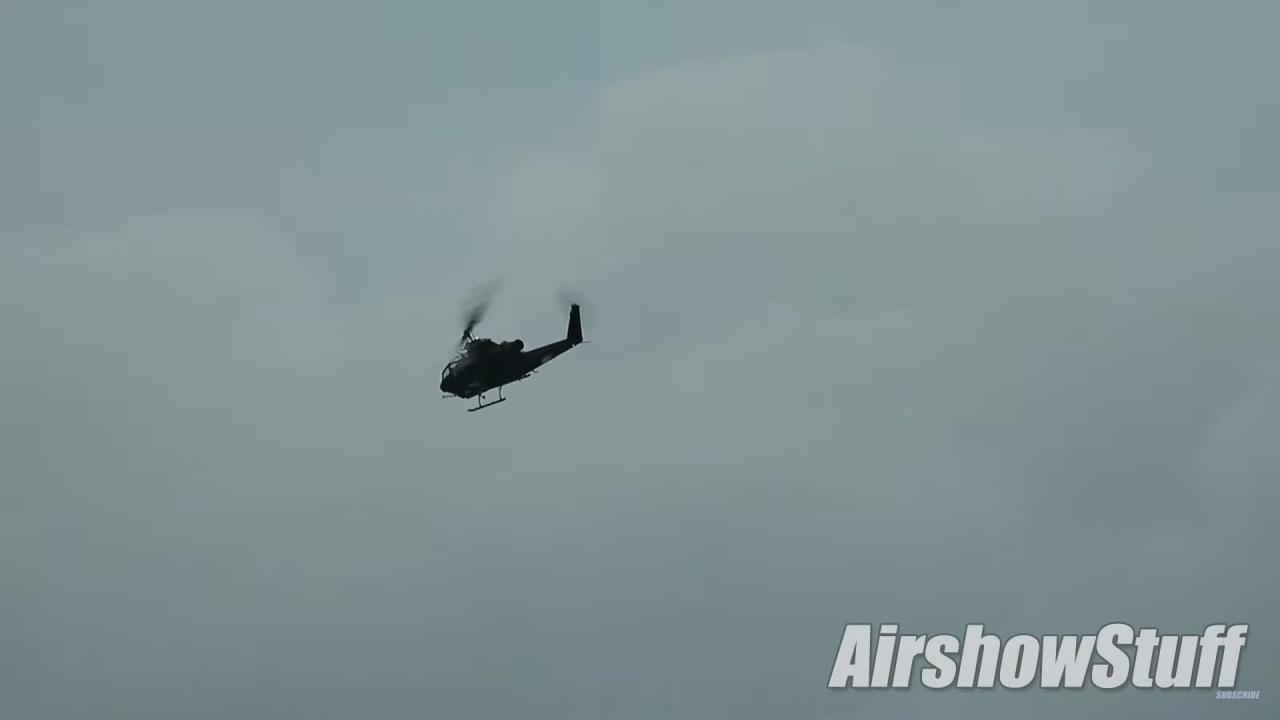Helicopter: (372, 254, 651, 430)
